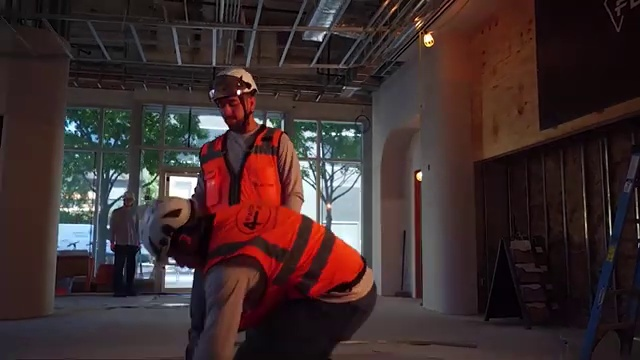helmet: (136, 189, 194, 259), (211, 64, 258, 102)
jacket: (198, 204, 369, 304), (195, 128, 302, 197)
